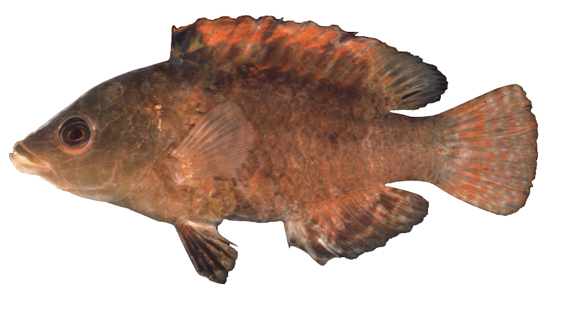fish: (10, 15, 538, 286)
